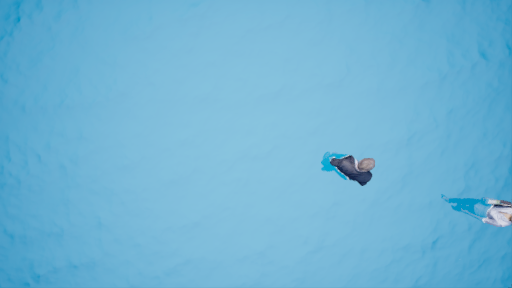person: (442, 191, 512, 230), (319, 150, 378, 187)
